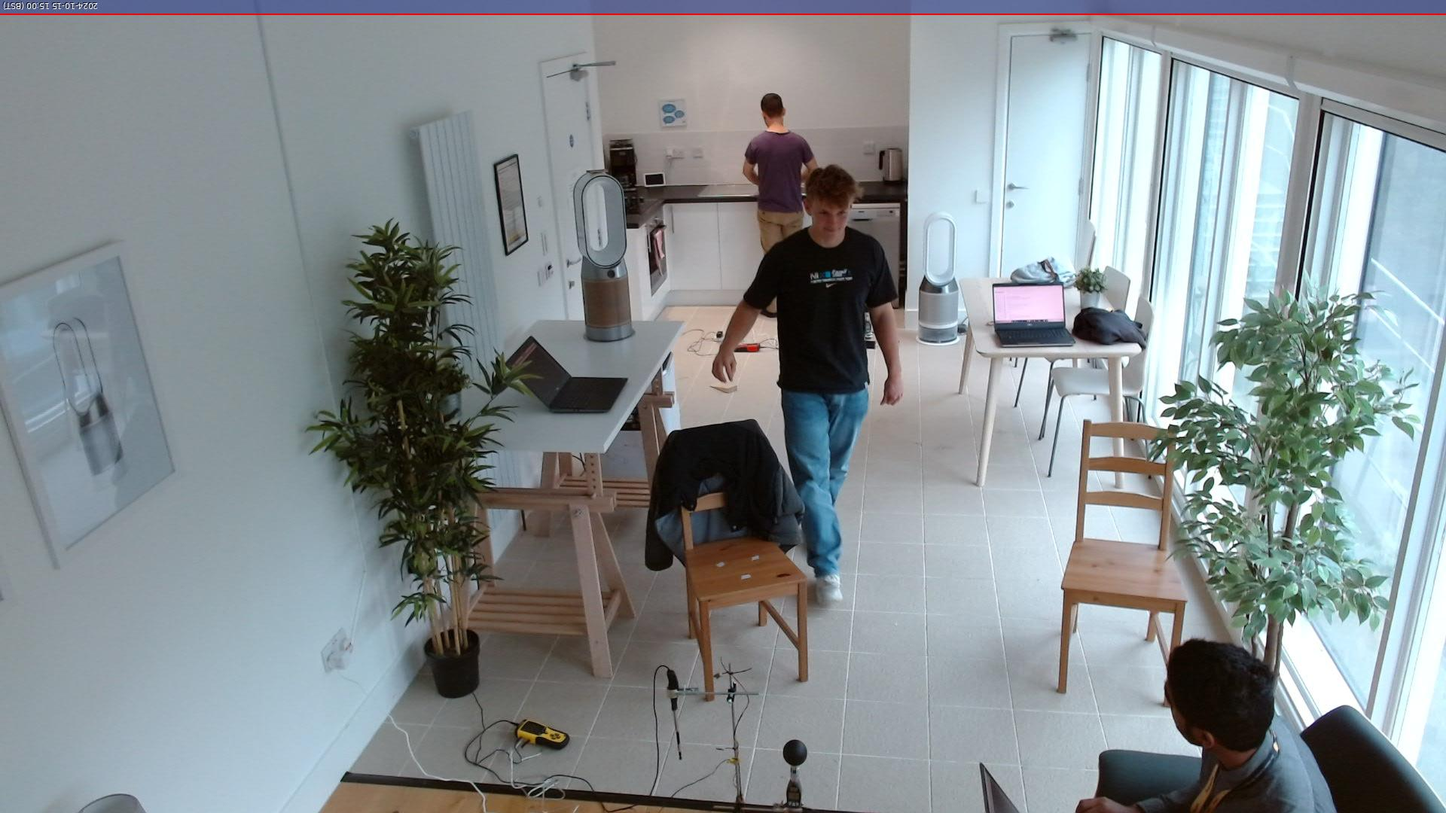long sleeve shirt: (1137, 698, 1336, 813)
short sleeve shirt: (740, 225, 899, 397), (743, 128, 816, 214)
trousers: (780, 383, 872, 576), (755, 206, 806, 310)
